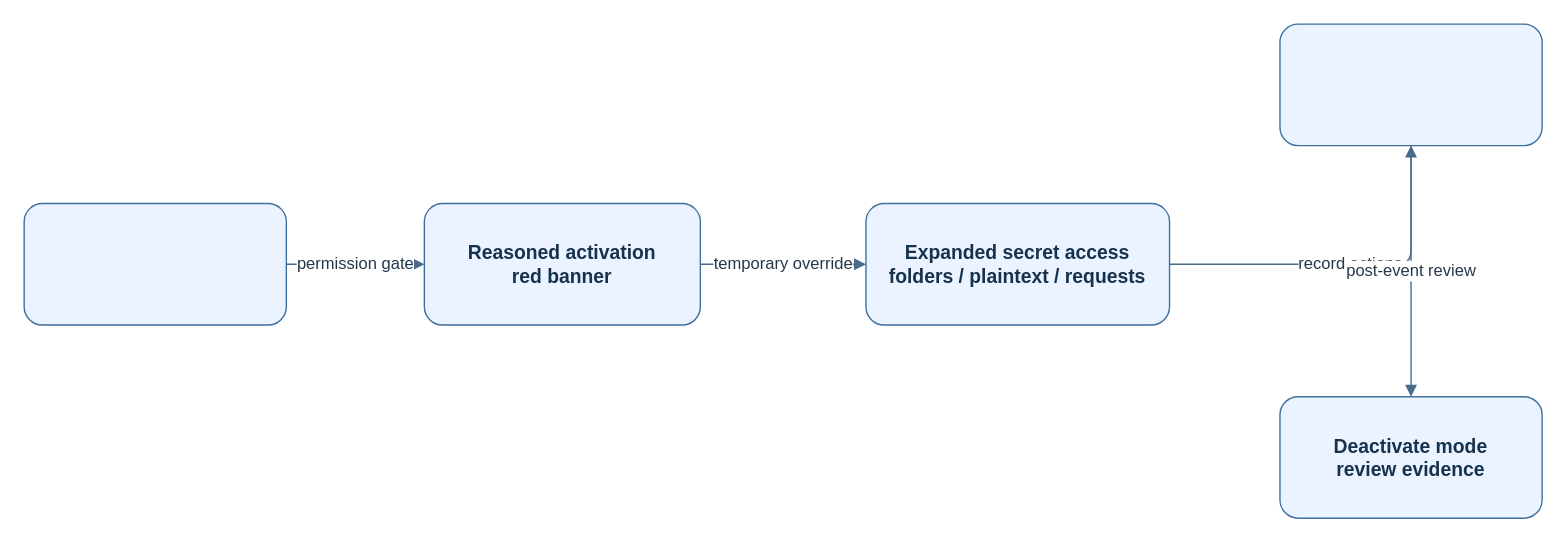
Image size: 1566x542. Some labels were removed from this diagram. The centre of each missing label's shape, as x and y in pixels:
"Admin role Enter Glass Breaking" belongs at [154,263].
"Audit events + email session video" belongs at [1410,84].
